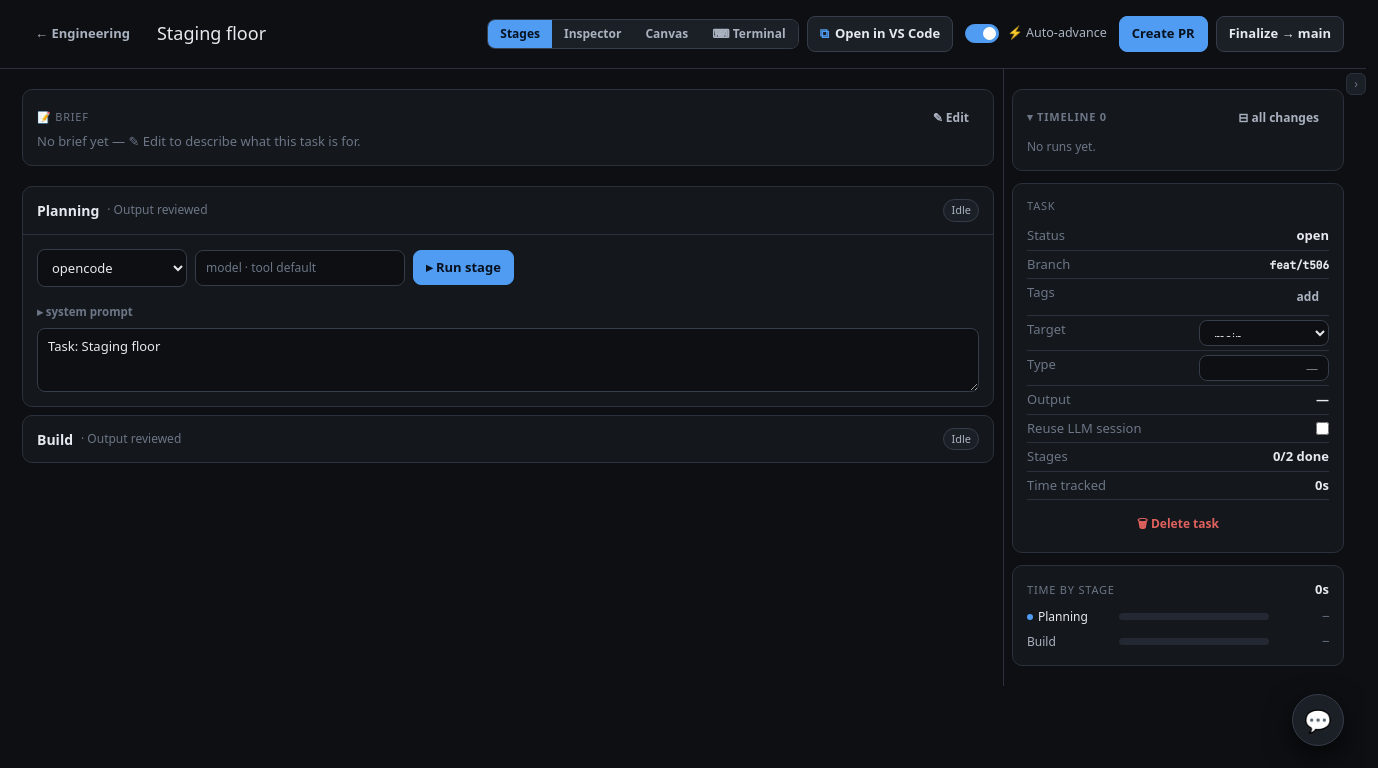
it: auto-advance chains FORWARD from a stage you started — the chain is handed to the server with the run › carries on after the first stage is run by hand — sending only the stages after it
What coordinates should you click on to do the following:
click the button "▸ Run stage"
I would click on:
 (463, 268)
Its box is [413, 250, 514, 285].
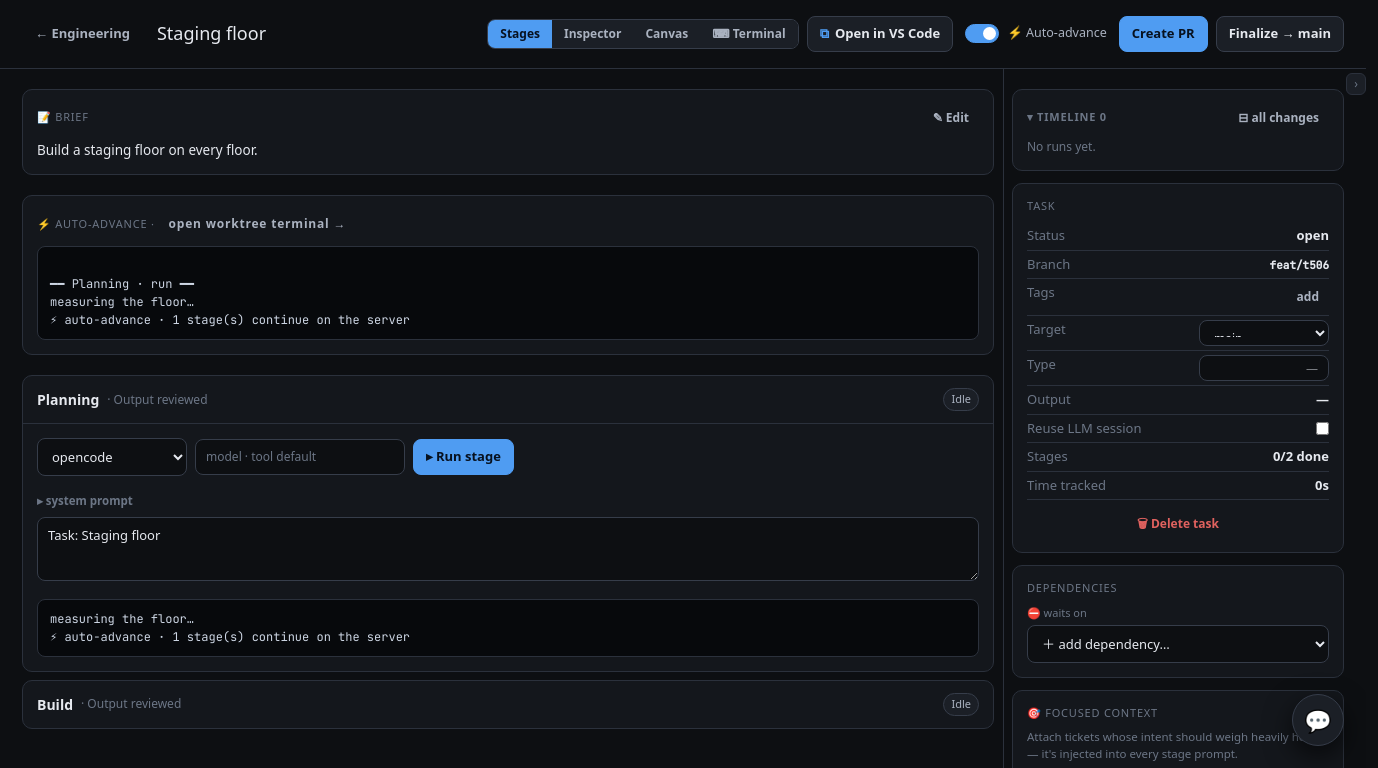
Now the text with class "term" shows "continue on the server", box [50, 276, 410, 328]
